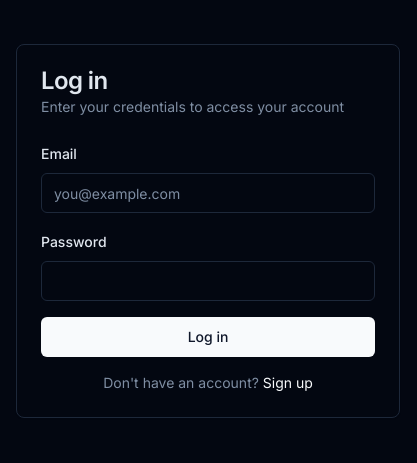
Test: LoginPage › shows inline validation errors
Expected: the heading "Log in" is shown, left=41, top=66, right=108, bottom=95
Step 1. Click the button "Log in" → [208, 337], box left=41, top=317, right=375, bottom=357
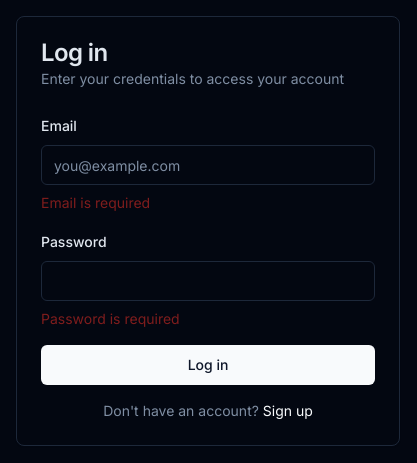
Expected: the text "Email is required" is shown, left=41, top=194, right=150, bottom=211
Expected: the text "Password is required" is shown, left=41, top=310, right=180, bottom=327
